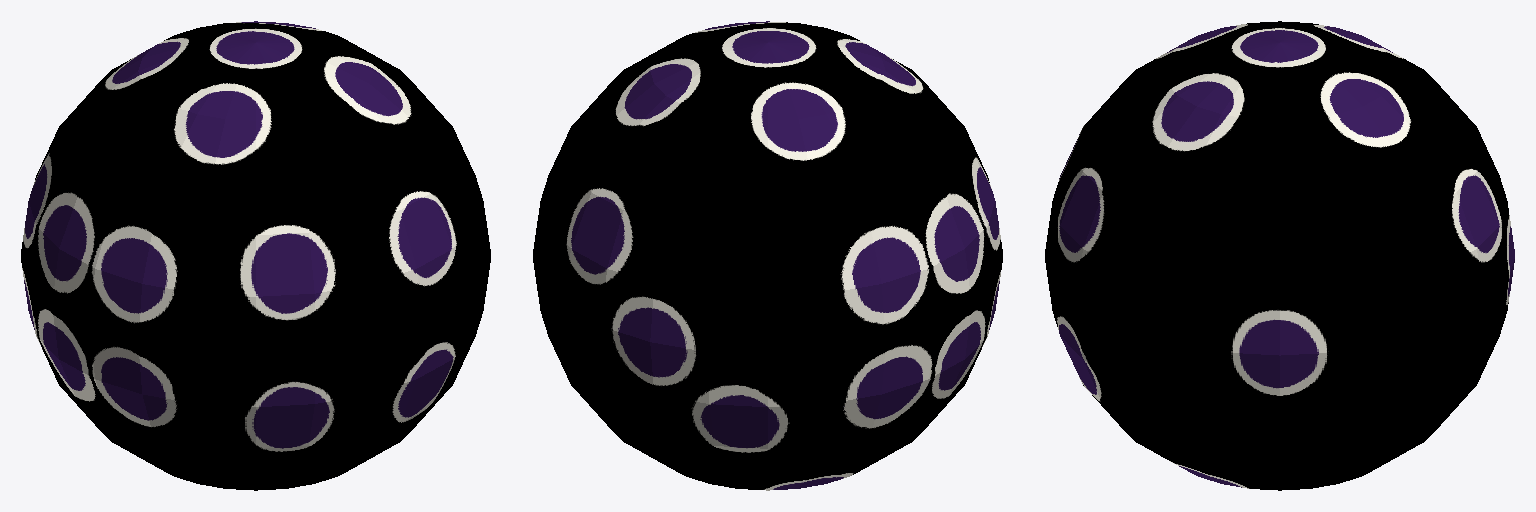
3 views of the same model, side by side, from view 1: azimuth 30°, elevation 25°; view 2: azimuth 150°, elevation 25°; view 3: azimuth 270°, elevation 25° (orthographic).
Parts seen in each view (by area): view 1: Sphere_None; view 2: Sphere_None; view 3: Sphere_None.
Part boxes in pixels (x1,y1,x2,y2): Sphere_None: (21,21,490,490); Sphere_None: (533,21,1002,490); Sphere_None: (1045,21,1514,490).
Bounding box in the file's own units: 2 × 2 × 2.
1 materials, 1 textured.